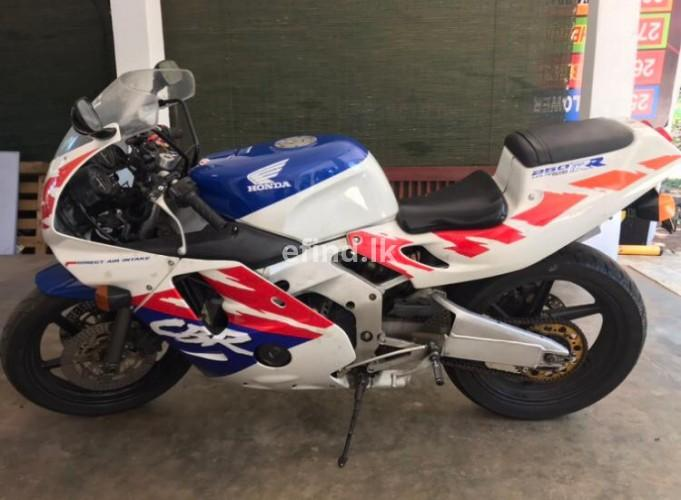motorbike: (1, 61, 681, 421)
